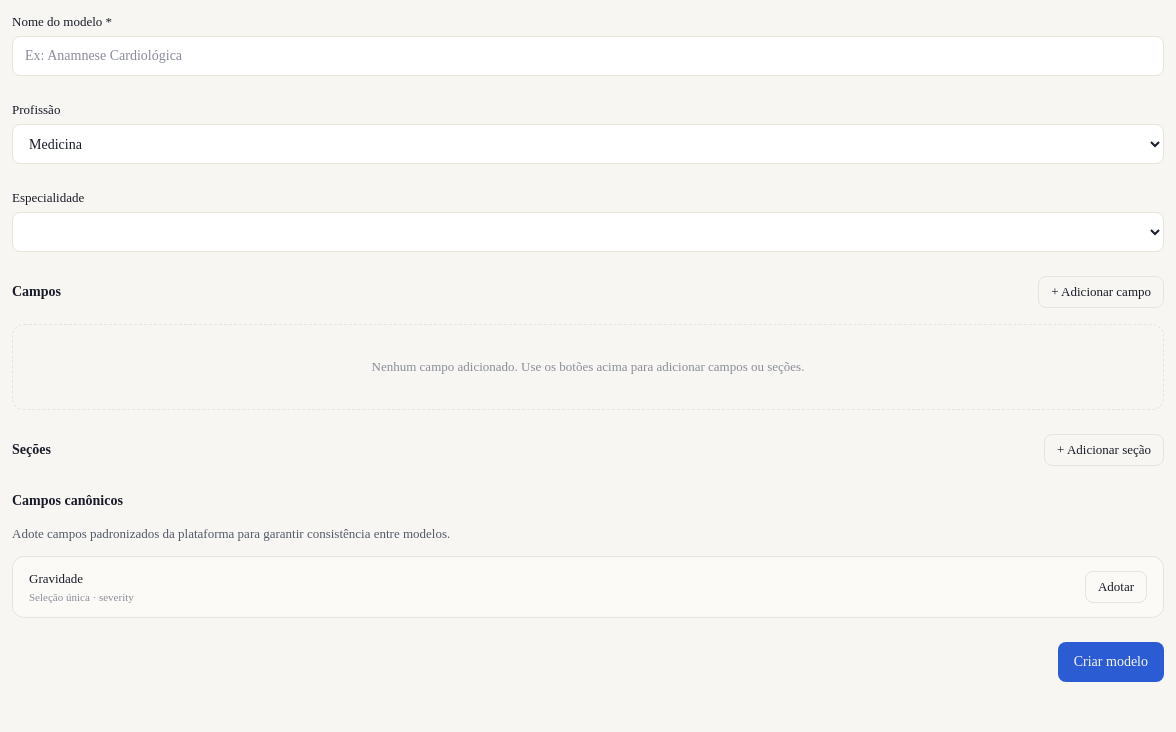
TemplateForm (integration) › create mode › adopts canonical field with options populated
The image size is (1176, 732).
Step 1. Click the button with test id "canonical-field-picker-adopt-cf-uuid-2" → click(1116, 587), box [1085,571,1147,603]
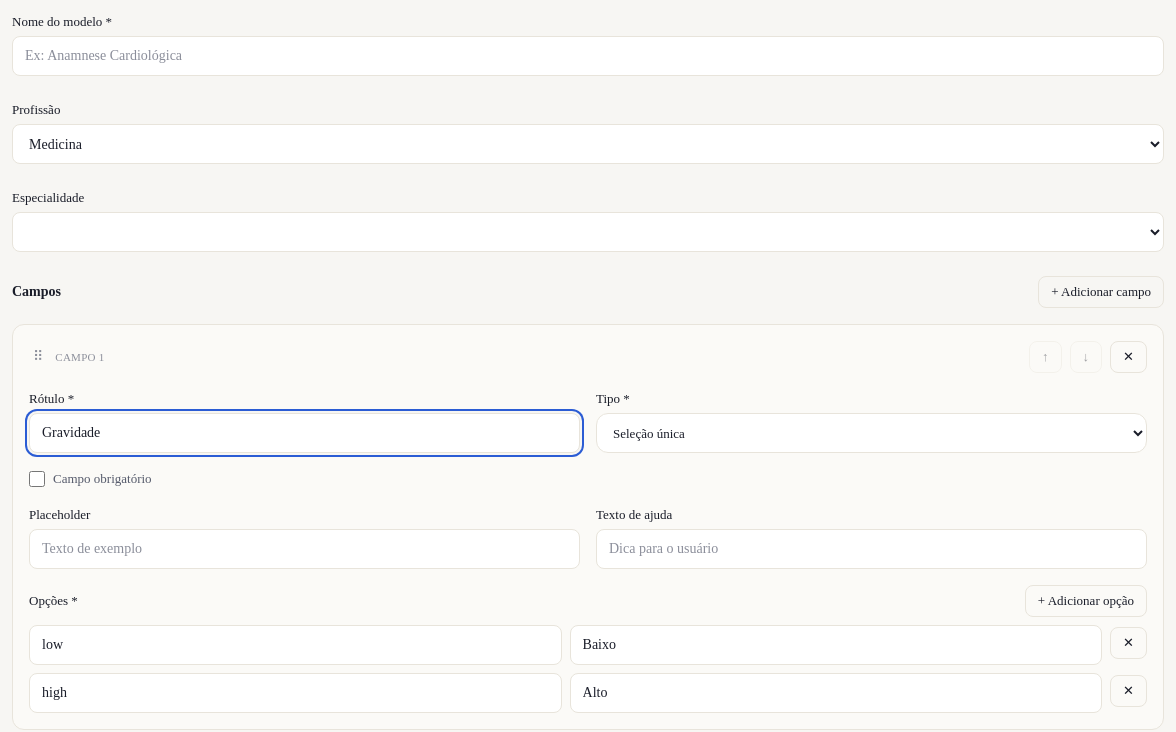
Expected: the element with test id "field-editor-0" is shown, [12,324,1164,730]
Expected: the element with test id "field-editor-options-0" is shown, [29,585,1147,713]
